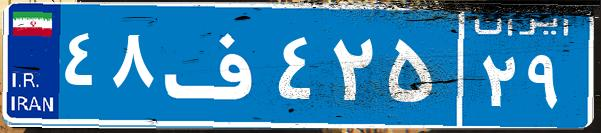2: (330, 28, 385, 110), (475, 38, 525, 113)
4: (273, 28, 330, 110), (57, 26, 110, 107)
5: (385, 28, 445, 110)
8: (110, 28, 158, 105)
9: (525, 38, 570, 115)
ف: (158, 15, 273, 115)
